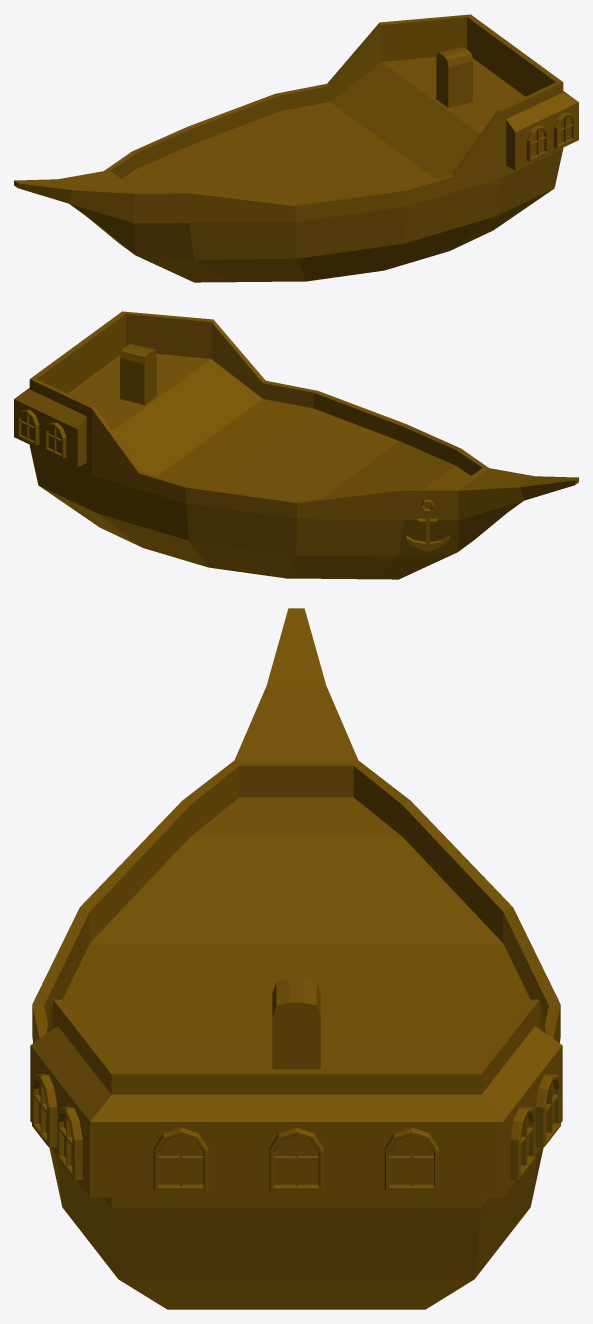
Rendered from Ship_Hull.fbx.
3 views of the same model, one above another, from view 1: azimuth 30°, elevation 25°; view 2: azimuth 150°, elevation 25°; view 3: azimuth 270°, elevation 25° (orthographic). The views are drawn at different scales.
Parts seen in each view (by area): view 1: Circle; view 2: Circle; view 3: Circle.
Part boxes in pixels (x1,y1,x2,y2): Circle: [14, 14, 578, 282]; Circle: [14, 311, 578, 579]; Circle: [30, 608, 562, 1309].
Bounding box in the file's own units: 274 × 79.48 × 123.
